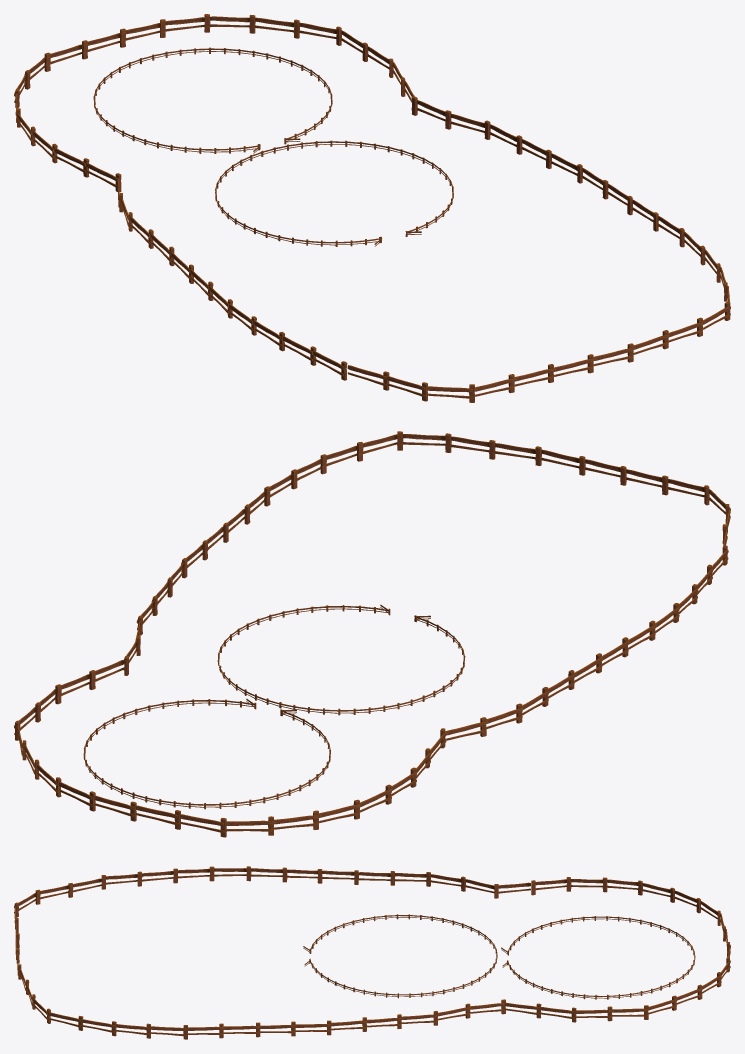
File: FenceAll2.glb
3 renders of one model, top to bottom at view 1: azimuth 30°, elevation 25°; view 2: azimuth 150°, elevation 25°; view 3: azimuth 270°, elevation 25°, orthographic. The views are drawn at different scales.
Bounding box in the file's own units: 189 × 7.62 × 356.
Materials: 1 (1 with a texture image).
